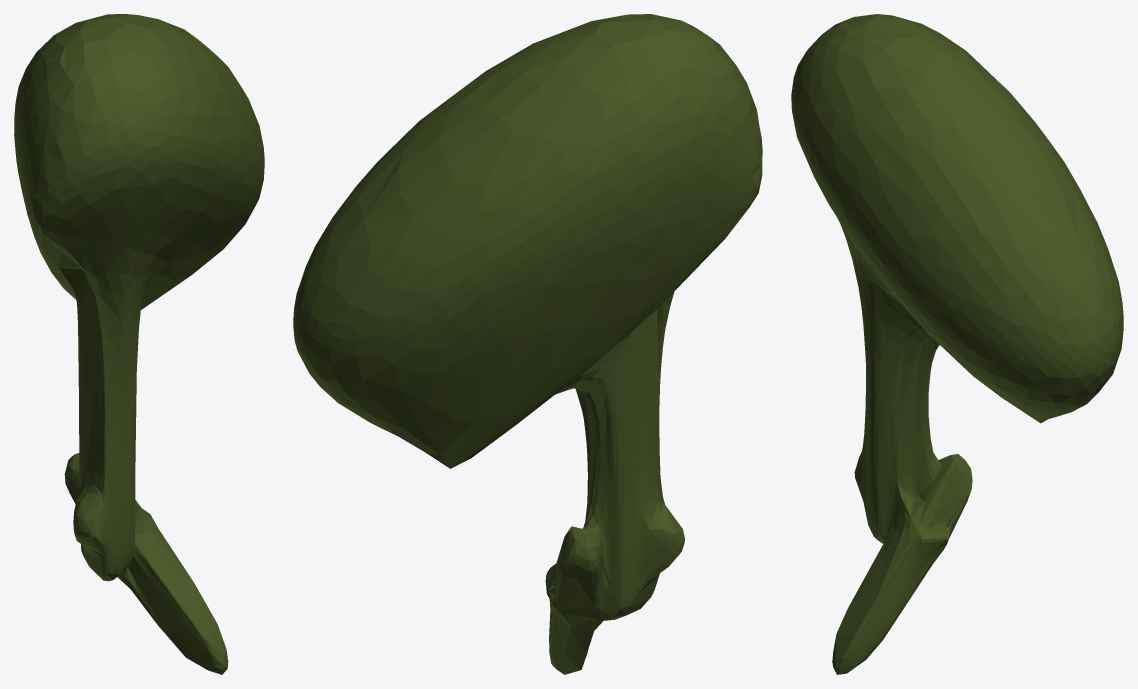
3 views of the same model, side by side, from view 1: azimuth 30°, elevation 25°; view 2: azimuth 150°, elevation 25°; view 3: azimuth 270°, elevation 25° (orthographic). The views are drawn at different scales.
Parts seen in each view (by area): view 1: 481_Cube.1953; view 2: 481_Cube.1953; view 3: 481_Cube.1953.
Boxes of the visible parts, x1,y1,x2,y2 form: 481_Cube.1953: (14,14,264,674); 481_Cube.1953: (293,14,762,674); 481_Cube.1953: (791,14,1123,674).
Bounding box in the file's own units: 7.75 × 15.1 × 7.46.
